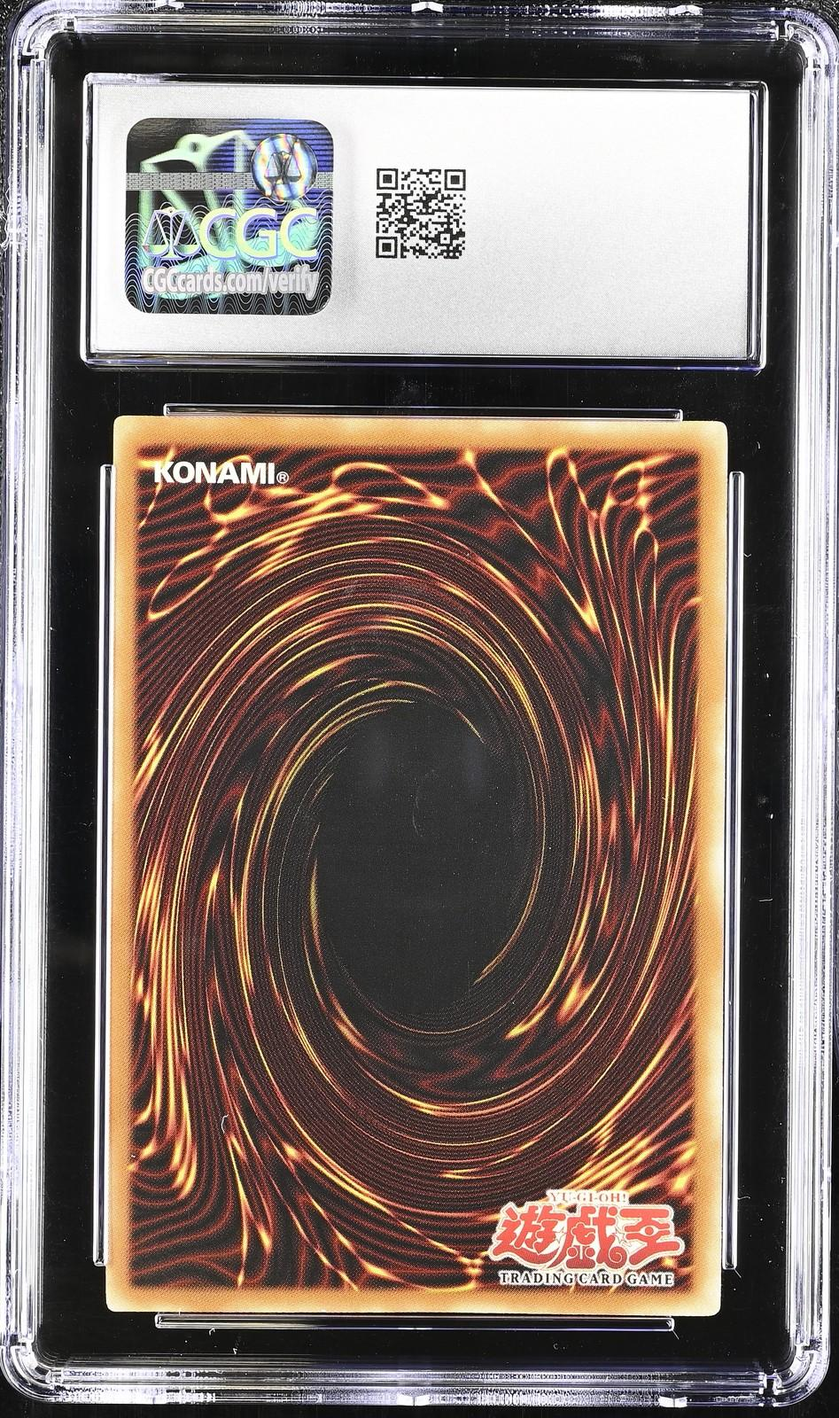card-2UtV: (105, 415, 728, 1316)
